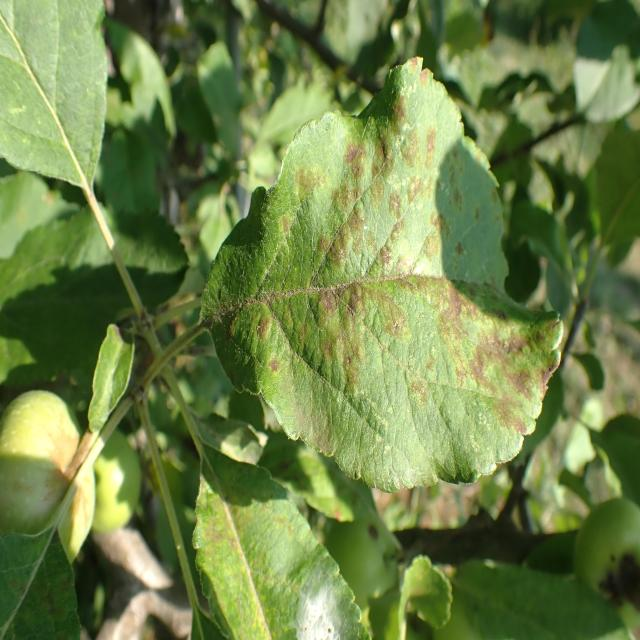scab: (225, 61, 566, 475), (192, 480, 366, 640)
